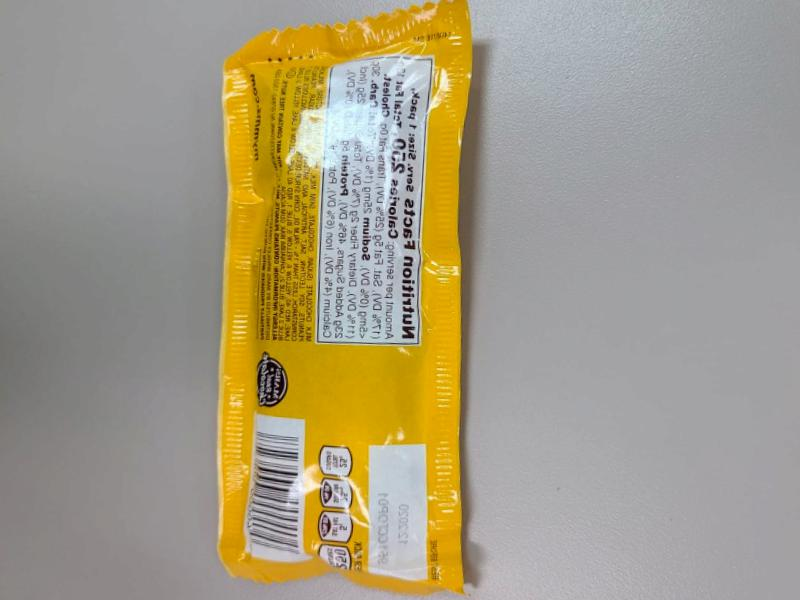m&m: (165, 34, 432, 514)
